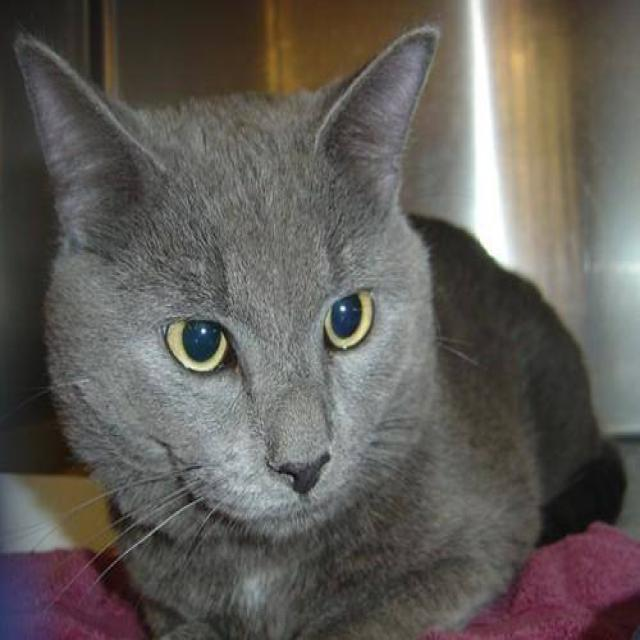Cat: (10, 14, 481, 548)
